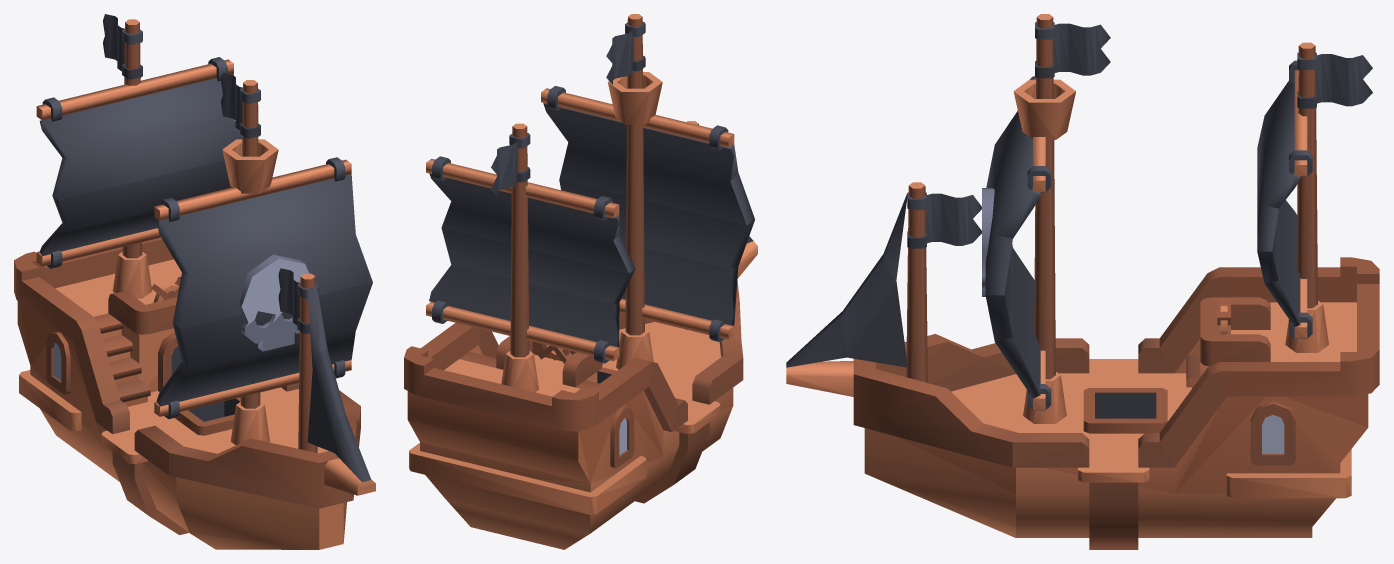
3 renders of one model, left to right at view 1: azimuth 30°, elevation 25°; view 2: azimuth 150°, elevation 25°; view 3: azimuth 270°, elevation 25°, orthographic. The views are drawn at different scales.
Parts seen in each view (by area): view 1: ship-pirate-medium, sail-a, sail-b, flag-b, flag-c, flag-a; view 2: ship-pirate-medium, sail-a, sail-b, flag-c, flag-b; view 3: ship-pirate-medium, sail-a, sail-b, flag-b, flag-c, flag-a.
Boxes of the visible parts, bbox=[...] form: ship-pirate-medium: bbox=[14, 19, 375, 549]; sail-a: bbox=[154, 157, 372, 419]; sail-b: bbox=[36, 57, 242, 268]; flag-b: bbox=[220, 73, 260, 138]; flag-c: bbox=[103, 14, 142, 79]; flag-a: bbox=[278, 268, 318, 333]; ship-pirate-medium: bbox=[404, 14, 757, 549]; sail-a: bbox=[541, 86, 754, 341]; sail-b: bbox=[426, 156, 635, 363]; flag-c: bbox=[491, 133, 530, 196]; flag-b: bbox=[606, 21, 645, 84]; ship-pirate-medium: bbox=[786, 14, 1379, 549]; sail-a: bbox=[982, 76, 1051, 410]; sail-b: bbox=[1257, 60, 1312, 338]; flag-b: bbox=[1035, 22, 1110, 78]; flag-c: bbox=[1297, 52, 1372, 108]; flag-a: bbox=[907, 192, 981, 248].
Size of the model in its own units: 9.63 by 20 by 21.28.
